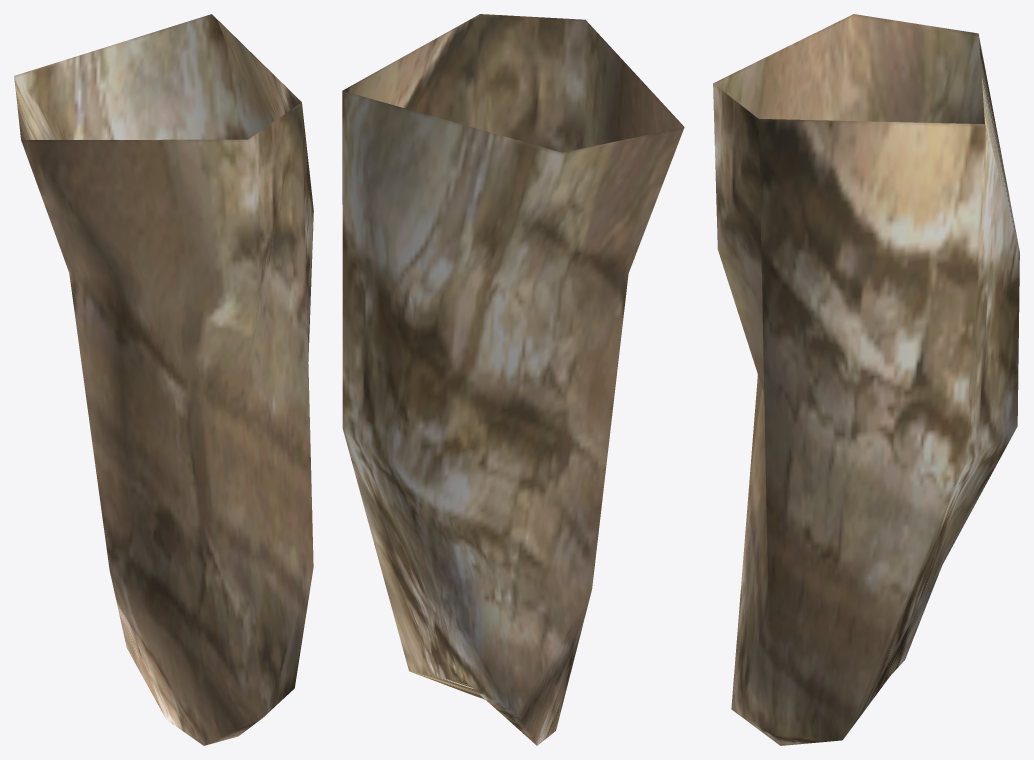
Rendered from thm_tato_cave_stalactite_med_l1.fbx.
3 renders of one model, left to right at view 1: azimuth 30°, elevation 25°; view 2: azimuth 150°, elevation 25°; view 3: azimuth 270°, elevation 25°, orthographic. The views are drawn at different scales.
Visible parts, largest first — view 1: mesh_node; view 2: mesh_node; view 3: mesh_node.
Boxes of the visible parts, x1,y1,x2,y2 form: mesh_node: [14, 14, 313, 745]; mesh_node: [342, 14, 684, 745]; mesh_node: [713, 14, 1019, 745].
Bounding box in the file's own units: 1.97 × 4.08 × 1.71.
1 material, 1 textured.
